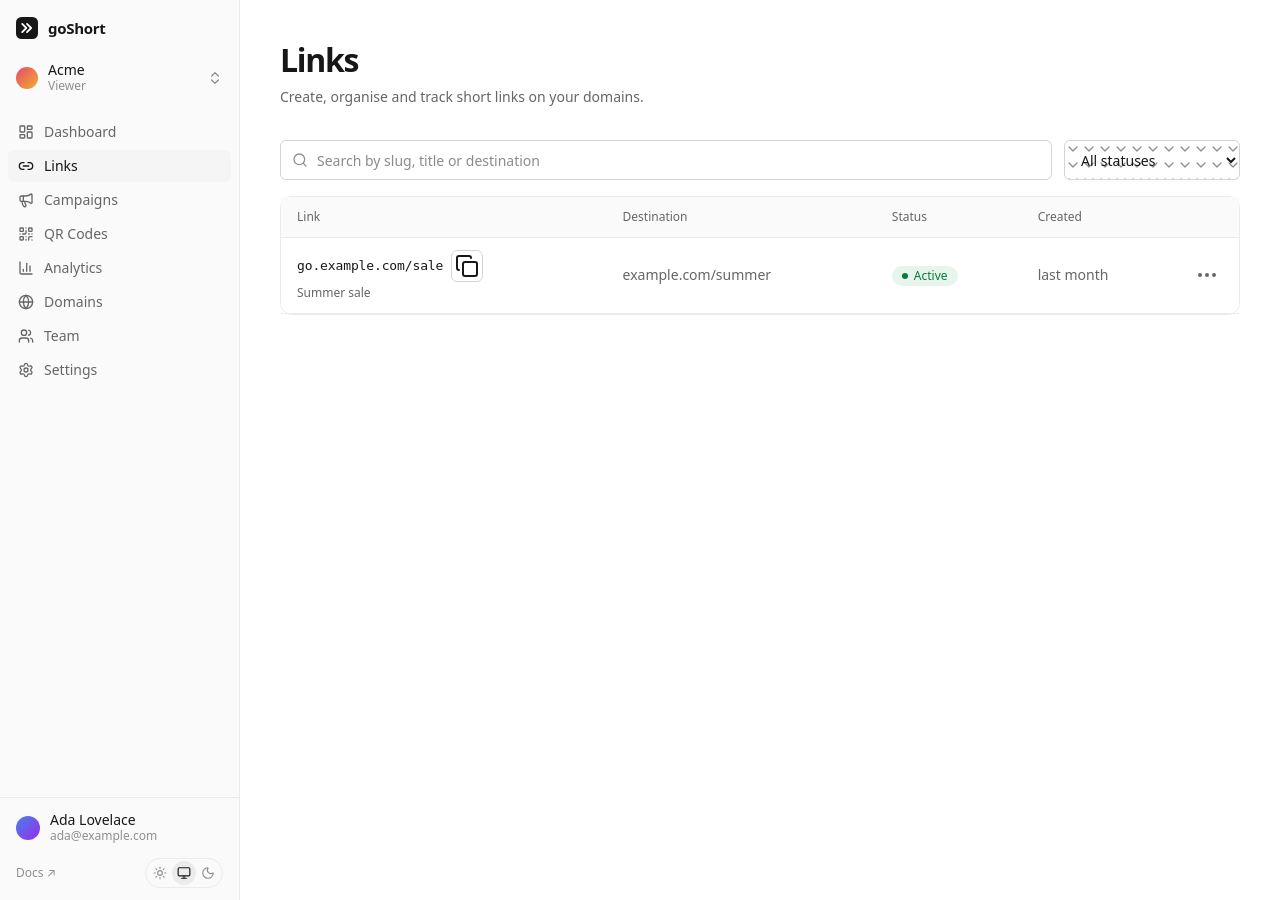
Test case: links list › viewers can browse but not create, edit or delete
expect the text "go.example.com/sale" is shown: met, box [297, 256, 443, 276]
Click the button named "actions for sale" at (1207, 274), box [1191, 258, 1223, 290]
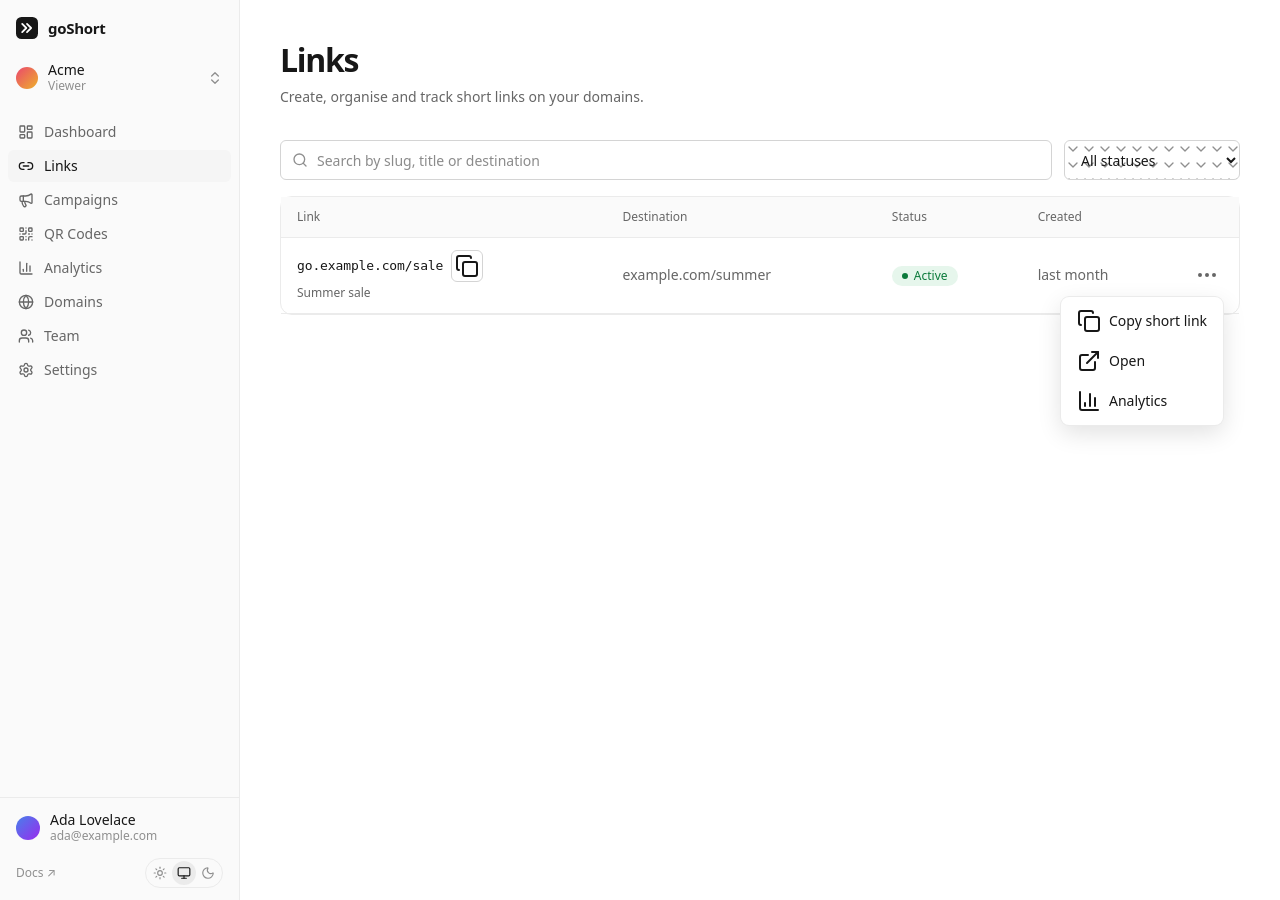
expect the menu item "Copy short link" is shown: met, box [1077, 309, 1207, 333]
